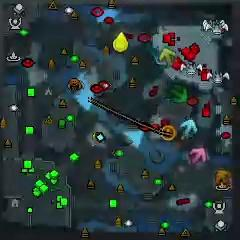Other: (161, 125, 176, 141)
p4: (112, 32, 130, 53)
x1: (190, 148, 207, 164)
x2: (159, 48, 175, 66)
x3: (180, 118, 198, 139)
x4: (169, 86, 188, 103)
x5: (215, 170, 231, 187)
